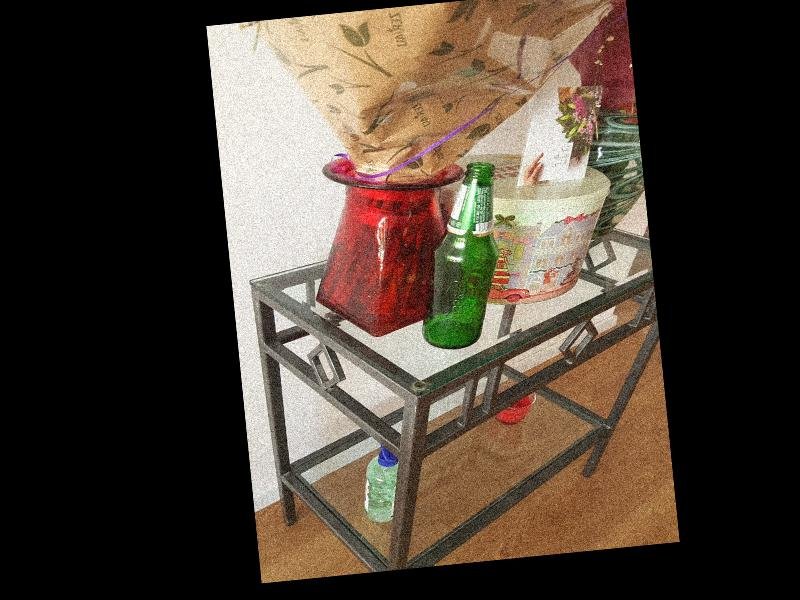Beer: (407, 160, 510, 353)
